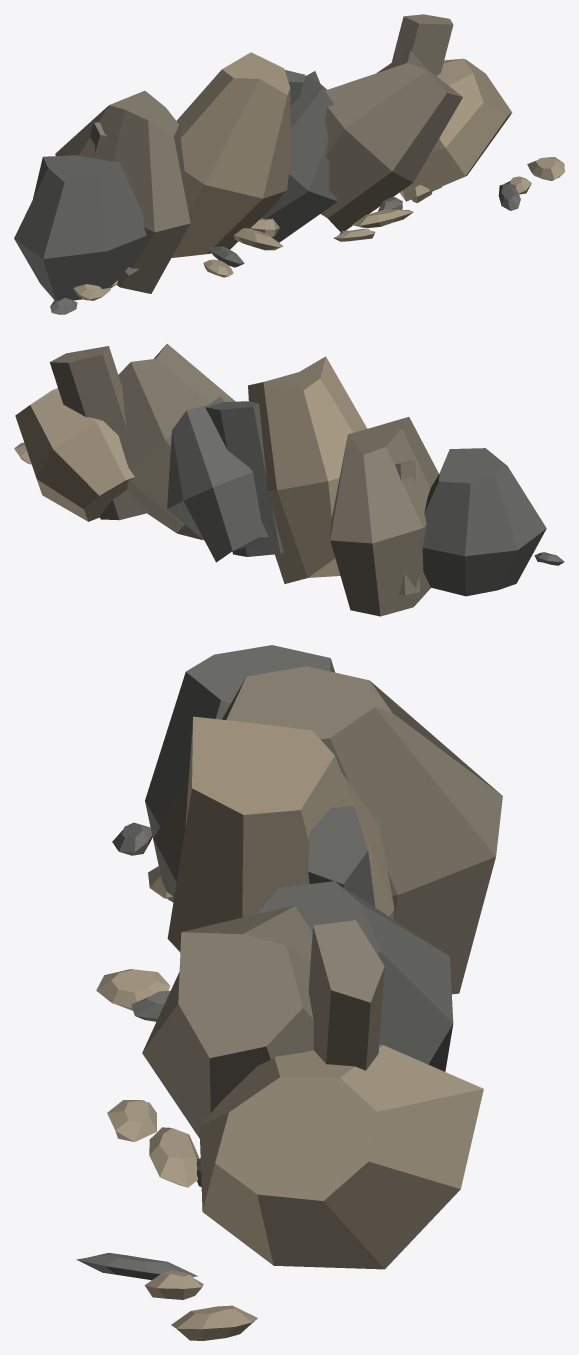
The model's file is cliff-shoulder-set.glb.
3 renders of one model, top to bottom at view 1: azimuth 30°, elevation 25°; view 2: azimuth 150°, elevation 25°; view 3: azimuth 270°, elevation 25°, orthographic. The views are drawn at different scales.
Parts seen in each view (by area): view 1: stacked_cliff_mass_2, stacked_cliff_mass_4, stacked_cliff_mass_0, stacked_cliff_mass_1, stacked_cliff_mass_5, stacked_cliff_mass_3, fractured_upright_slab_2, cliff_scree_stone_11, cliff_scree_stone_7, cliff_scree_stone_17, cliff_scree_stone_15, cliff_scree_stone_6 (+4 smaller); view 2: stacked_cliff_mass_1, stacked_cliff_mass_2, stacked_cliff_mass_0, stacked_cliff_mass_3, stacked_cliff_mass_4, stacked_cliff_mass_5, fractured_upright_slab_2, fractured_upright_slab_1, fractured_upright_slab_0; view 3: stacked_cliff_mass_5, stacked_cliff_mass_1, stacked_cliff_mass_2, stacked_cliff_mass_4, stacked_cliff_mass_3, fractured_upright_slab_2, stacked_cliff_mass_0, fractured_upright_slab_1, cliff_scree_stone_11, cliff_scree_stone_17, cliff_scree_stone_5, cliff_scree_stone_15 (+3 smaller).
Boxes of the visible parts, x1,y1,x2,y2 form: stacked_cliff_mass_2: (171,52,290,257); stacked_cliff_mass_4: (321,50,462,231); stacked_cliff_mass_0: (14,155,146,300); stacked_cliff_mass_1: (55,90,190,293); stacked_cliff_mass_5: (399,58,512,201); stacked_cliff_mass_3: (262,71,337,242); fractured_upright_slab_2: (391,14,453,75); cliff_scree_stone_11: (352,209,413,227); cliff_scree_stone_7: (234,228,283,250); cliff_scree_stone_17: (527,157,564,180); cliff_scree_stone_15: (498,183,520,210); cliff_scree_stone_6: (208,246,244,267); stacked_cliff_mass_1: (330,417,438,616); stacked_cliff_mass_2: (248,356,367,583); stacked_cliff_mass_0: (422,448,546,596); stacked_cliff_mass_3: (167,396,268,562); stacked_cliff_mass_4: (118,344,235,539); stacked_cliff_mass_5: (15,388,134,521); fractured_upright_slab_2: (49,346,149,520); fractured_upright_slab_1: (205,401,283,556); fractured_upright_slab_0: (395,460,419,595); stacked_cliff_mass_5: (199,1045,483,1269); stacked_cliff_mass_1: (153,666,502,994); stacked_cliff_mass_2: (167,716,394,952); stacked_cliff_mass_4: (142,905,313,1138); stacked_cliff_mass_3: (257,881,453,1071); fractured_upright_slab_2: (308,920,384,1070); stacked_cliff_mass_0: (145,645,334,902); fractured_upright_slab_1: (308,806,375,907); cliff_scree_stone_11: (149,1127,199,1187); cliff_scree_stone_17: (171,1305,257,1340); cliff_scree_stone_5: (96,969,170,1010); cliff_scree_stone_15: (76,1253,197,1280).
Bounding box in the file's own units: 6.6 × 2.39 × 2.33.
